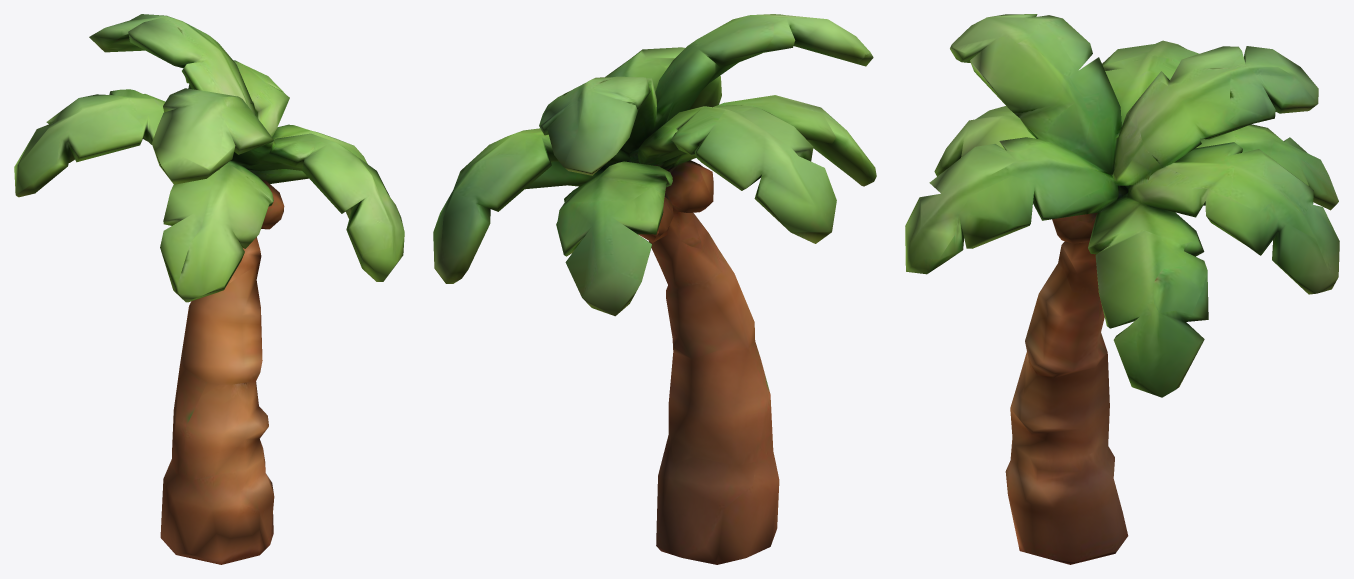
The model's file is palm_l3.glb.
3 renders of one model, left to right at view 1: azimuth 30°, elevation 25°; view 2: azimuth 150°, elevation 25°; view 3: azimuth 270°, elevation 25°, orthographic. The views are drawn at different scales.
Visible parts, largest first — view 1: tripo_node_2e10e8a2-3fec-4771-bced-0935fc4a648e; view 2: tripo_node_2e10e8a2-3fec-4771-bced-0935fc4a648e; view 3: tripo_node_2e10e8a2-3fec-4771-bced-0935fc4a648e.
Boxes of the visible parts, left/top/right/bottom form: tripo_node_2e10e8a2-3fec-4771-bced-0935fc4a648e: left=14, top=14, right=404, bottom=564; tripo_node_2e10e8a2-3fec-4771-bced-0935fc4a648e: left=433, top=14, right=876, bottom=564; tripo_node_2e10e8a2-3fec-4771-bced-0935fc4a648e: left=905, top=14, right=1339, bottom=564.
Bounding box in the file's own units: 0.7765 × 0.9745 × 0.7676.
Materials: 1 (1 with a texture image).
